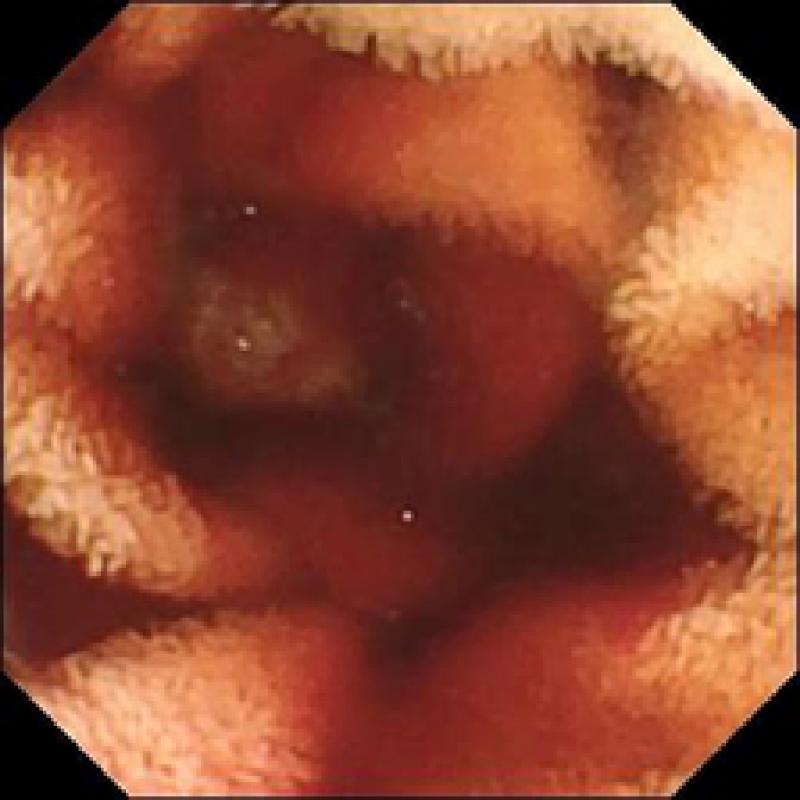bleeding: (86, 21, 737, 798)
